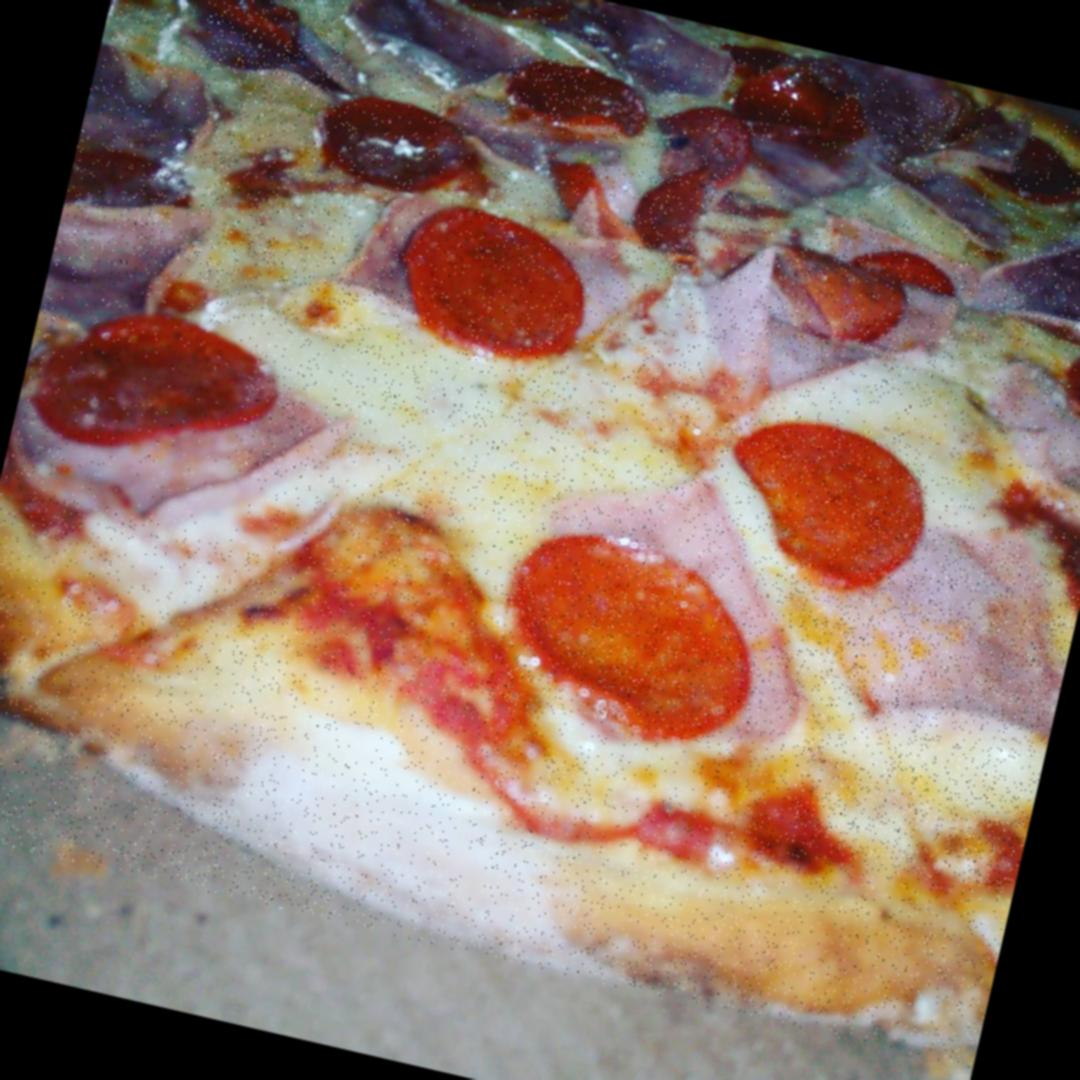Cheese: (224, 250, 731, 578), (783, 695, 1044, 896), (182, 77, 394, 313)
Ham: (492, 444, 860, 754), (795, 510, 1080, 752), (52, 321, 340, 553), (692, 203, 982, 409), (52, 70, 230, 282), (345, 0, 526, 91), (196, 0, 355, 98), (972, 355, 1080, 496), (578, 17, 730, 110), (984, 215, 1080, 354), (842, 80, 960, 153), (736, 139, 854, 203)
Pepperoni: (486, 514, 780, 751), (30, 280, 290, 476), (694, 392, 940, 599), (391, 198, 597, 376), (771, 233, 942, 352), (318, 85, 484, 195), (500, 50, 643, 142), (636, 160, 726, 273), (656, 99, 754, 186)
Pizza: (0, 0, 1080, 1069)
